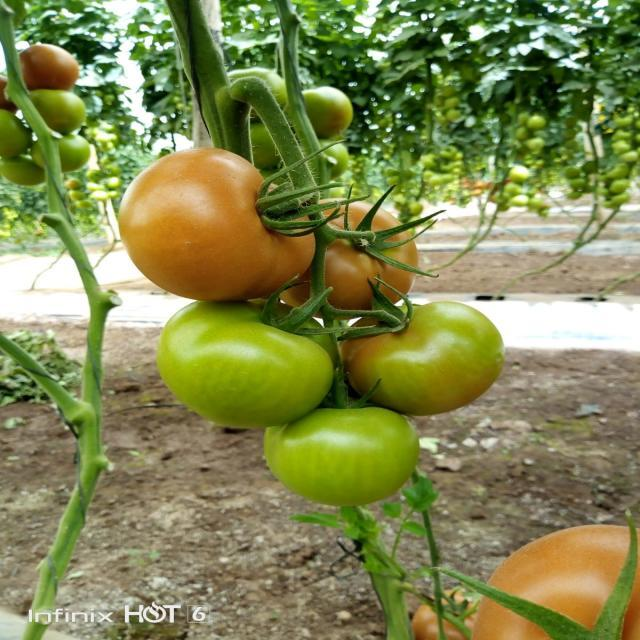Ripe Tomato: (128, 140, 323, 294), (466, 516, 634, 640), (310, 206, 446, 294)
Unripe Tomato: (274, 392, 430, 524), (160, 302, 331, 422), (365, 300, 515, 408)
